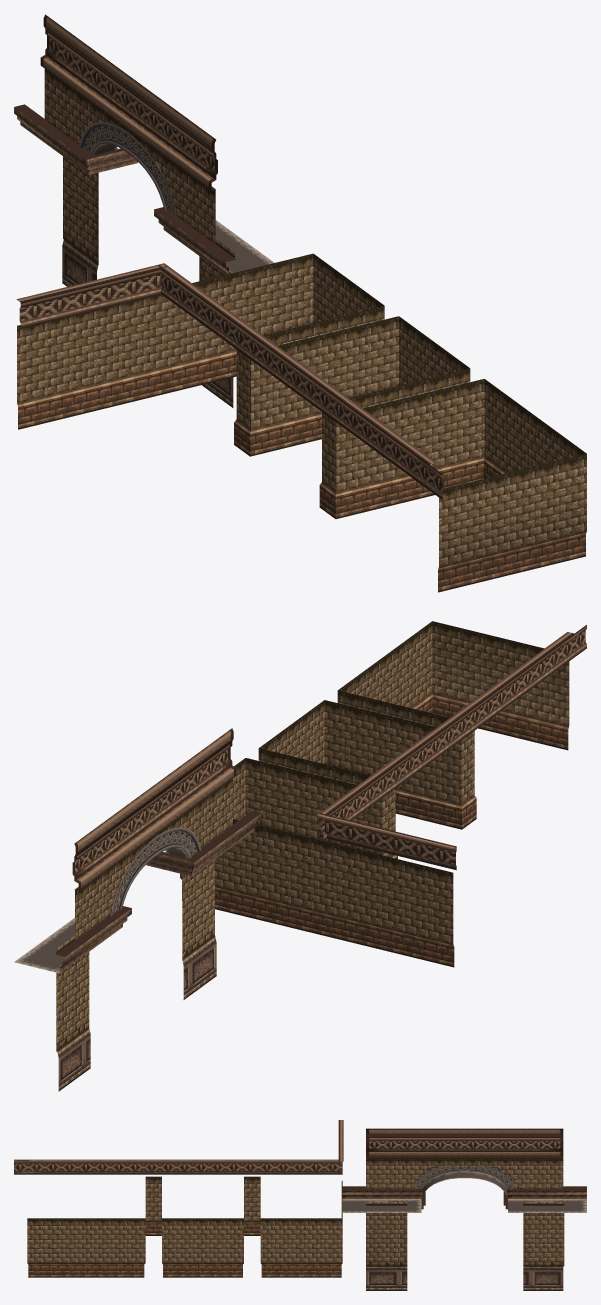
Rendered from ObjMD_Desert_Palace_Room_King_B.FBX.
The picture shows the model from 3 angles, top to bottom: view 1: azimuth 30°, elevation 25°; view 2: azimuth 150°, elevation 25°; view 3: azimuth 270°, elevation 25°; orthographic projection. The views are drawn at different scales.
Parts seen in each view (by area): view 1: ObjMD_Desert_Palace_Room_LA, ObjMD_Desert_Palace_Room_King_B; view 2: ObjMD_Desert_Palace_Room_LA, ObjMD_Desert_Palace_Room_King_B; view 3: ObjMD_Desert_Palace_Room_LA, ObjMD_Desert_Palace_Room_King_B.
Boxes of the visible parts, x1=… form: ObjMD_Desert_Palace_Room_LA: x1=16, y1=253, x2=586, y2=592; ObjMD_Desert_Palace_Room_King_B: x1=14, y1=14, x2=280, y2=407; ObjMD_Desert_Palace_Room_LA: x1=180, y1=621, x2=586, y2=967; ObjMD_Desert_Palace_Room_King_B: x1=14, y1=728, x2=260, y2=1091; ObjMD_Desert_Palace_Room_LA: x1=14, y1=1120, x2=343, y2=1277; ObjMD_Desert_Palace_Room_King_B: x1=342, y1=1128, x2=586, y2=1290.
Bounding box in the file's own units: 1200 × 1056 × 3485.
